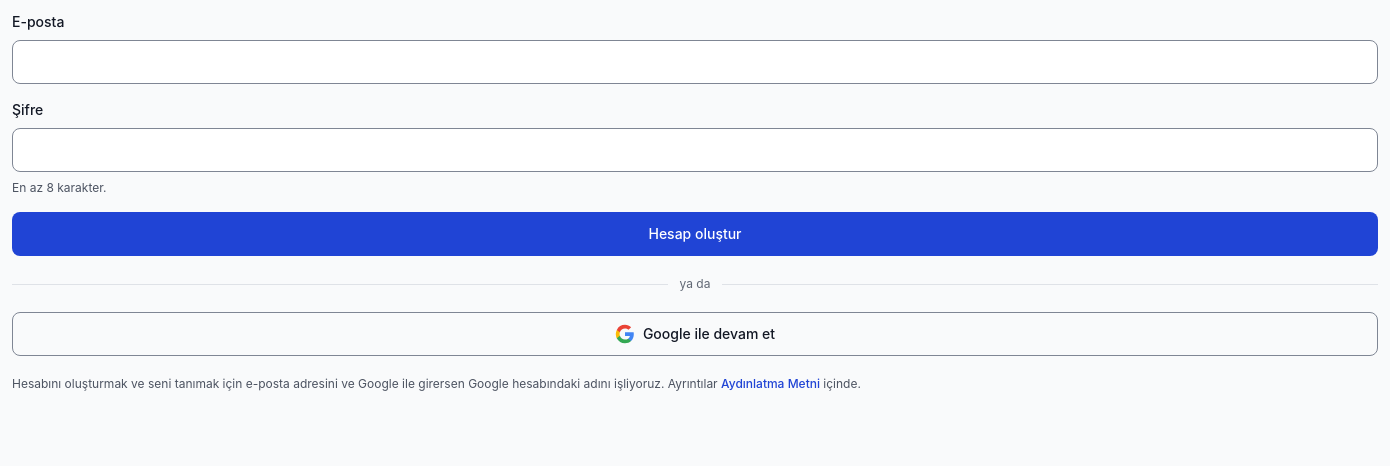
it: CredentialsForm › kayıt hatası giriş metniyle değil, kendi metniyle gösterilir
Step 1. Type "ayse@example.test" into the field labelled "E-posta" → (695, 62), box x1=12 y1=40 x2=1378 y2=84
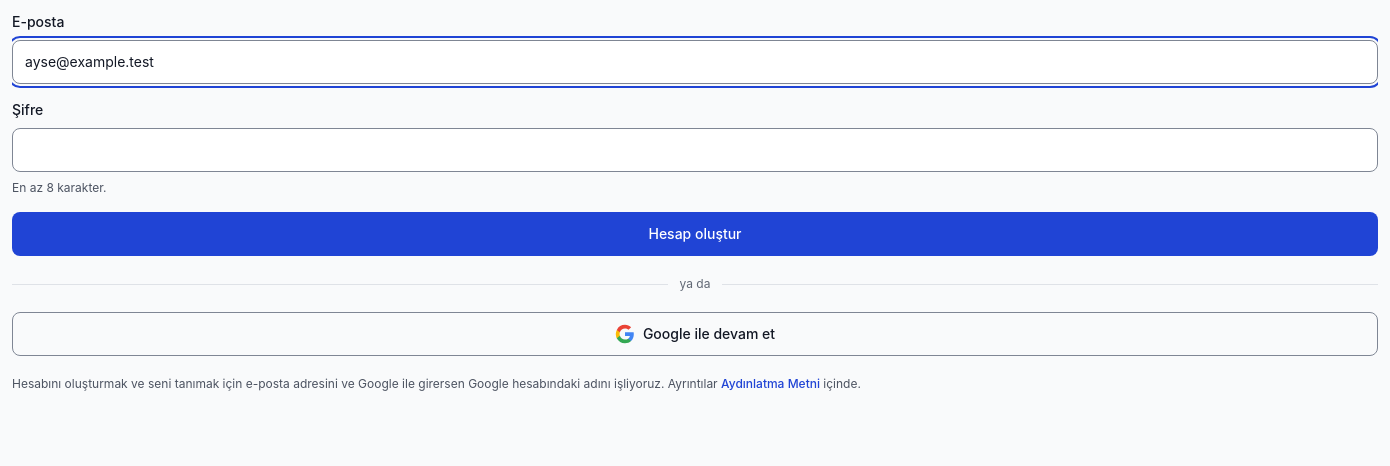
Step 2. Type "dogru-sifre-1" into the password field labelled "Şifre" → (695, 150), box x1=12 y1=128 x2=1378 y2=172
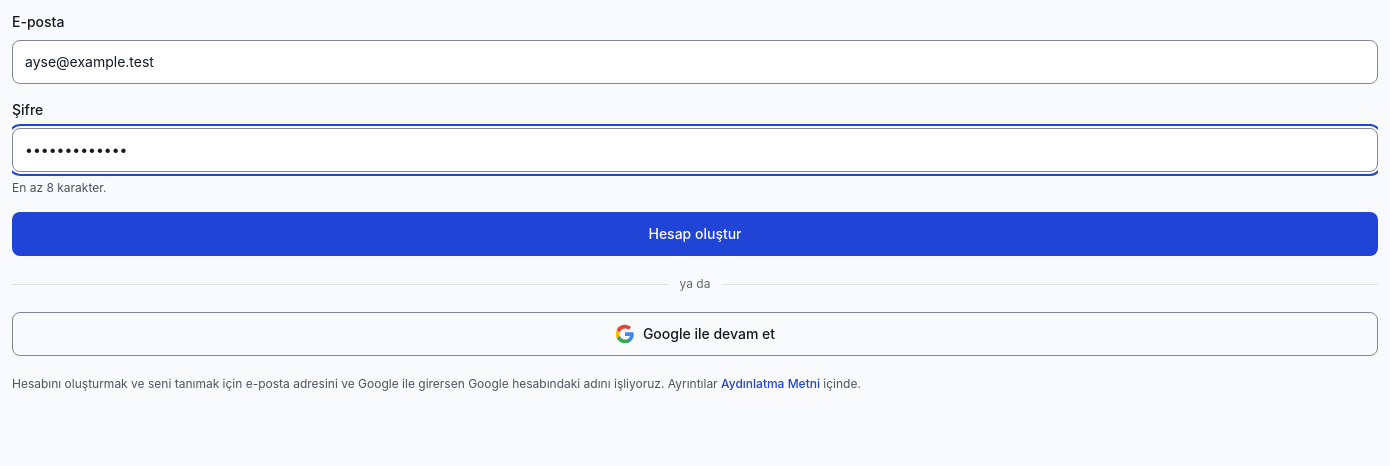
Step 3. Click the button with test id "auth-submit" → (695, 234), box x1=12 y1=212 x2=1378 y2=256
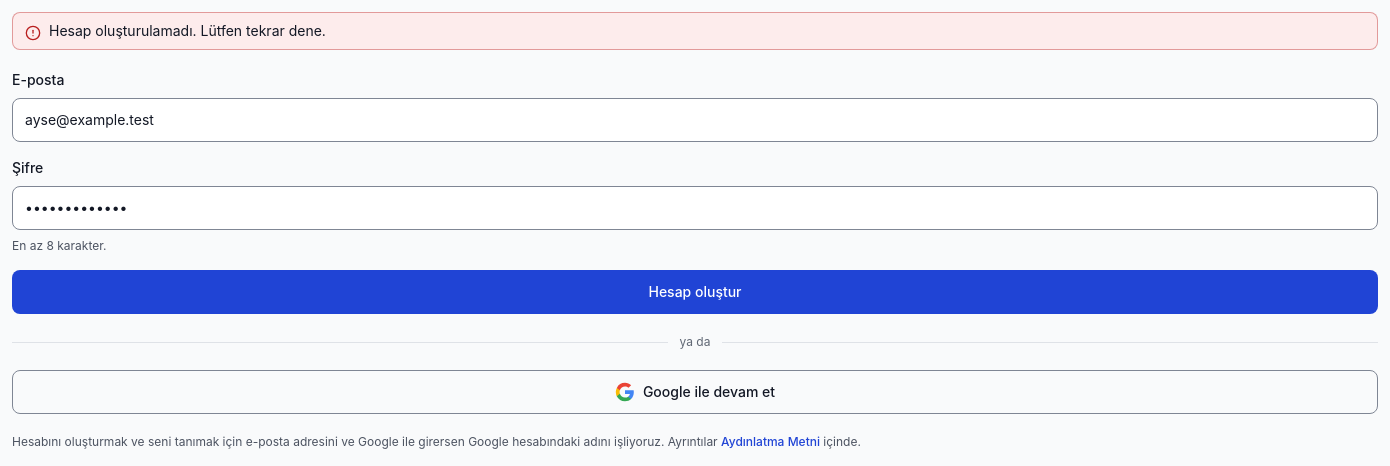
Expected: the message reads "Hesap oluşturulamadı. Lütfen tekrar dene.", x1=49 y1=22 x2=326 y2=39
